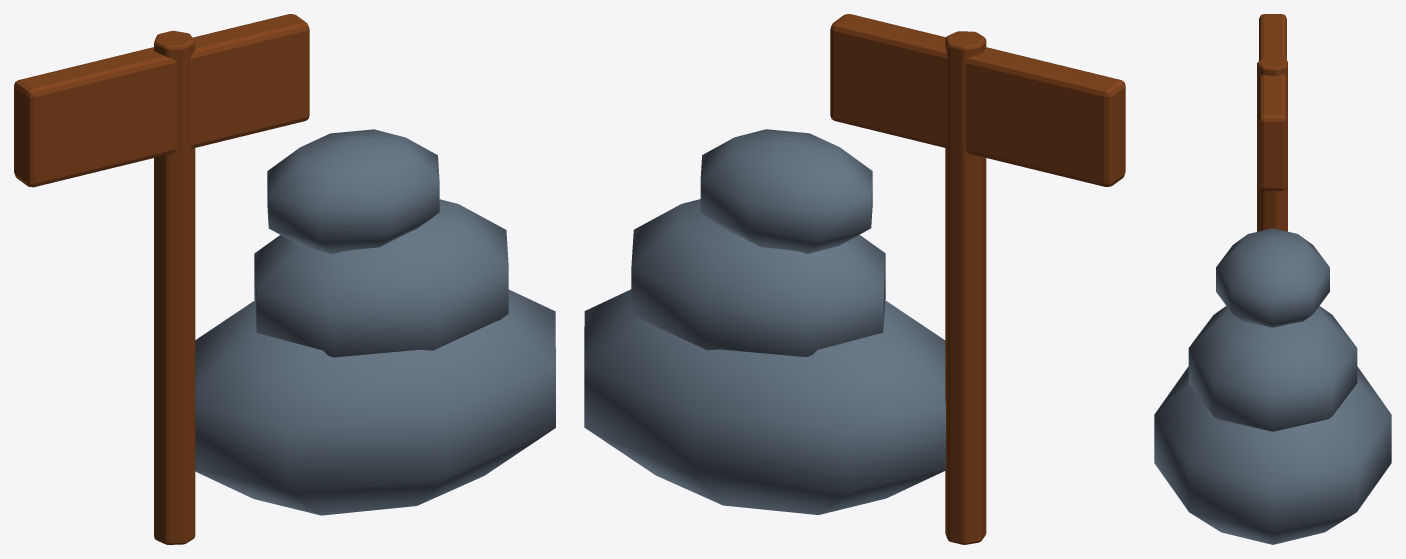
File: ranger_wayfinding_cairn_lod1.obj
3 renders of one model, left to right at view 1: azimuth 30°, elevation 25°; view 2: azimuth 150°, elevation 25°; view 3: azimuth 270°, elevation 25°, orthographic. The views are drawn at different scales.
Parts seen in each view (by area): view 1: ow_cairn_lod1_rock_0_M_stone, ow_cairn_lod1_sign_M_wood, ow_cairn_lod1_rock_1_M_stone, ow_cairn_lod1_post_M_wood, ow_cairn_lod1_rock_2_M_stone; view 2: ow_cairn_lod1_rock_0_M_stone, ow_cairn_lod1_sign_M_wood, ow_cairn_lod1_rock_1_M_stone, ow_cairn_lod1_post_M_wood, ow_cairn_lod1_rock_2_M_stone; view 3: ow_cairn_lod1_rock_0_M_stone, ow_cairn_lod1_rock_1_M_stone, ow_cairn_lod1_rock_2_M_stone, ow_cairn_lod1_sign_M_wood, ow_cairn_lod1_post_M_wood.
Part boxes in pixels (x1,y1,x2,y2): ow_cairn_lod1_rock_0_M_stone: [195, 289, 555, 515]; ow_cairn_lod1_sign_M_wood: [14, 14, 309, 187]; ow_cairn_lod1_rock_1_M_stone: [254, 199, 508, 357]; ow_cairn_lod1_post_M_wood: [154, 30, 195, 544]; ow_cairn_lod1_rock_2_M_stone: [267, 129, 439, 253]; ow_cairn_lod1_rock_0_M_stone: [584, 289, 945, 514]; ow_cairn_lod1_sign_M_wood: [830, 14, 1125, 186]; ow_cairn_lod1_rock_1_M_stone: [631, 199, 885, 357]; ow_cairn_lod1_post_M_wood: [945, 31, 986, 544]; ow_cairn_lod1_rock_2_M_stone: [700, 129, 872, 253]; ow_cairn_lod1_rock_0_M_stone: [1154, 366, 1391, 544]; ow_cairn_lod1_rock_1_M_stone: [1188, 306, 1357, 431]; ow_cairn_lod1_rock_2_M_stone: [1216, 228, 1329, 327]; ow_cairn_lod1_sign_M_wood: [1259, 14, 1286, 190]; ow_cairn_lod1_post_M_wood: [1257, 56, 1287, 231].
Bounding box in the file's own units: 1.7 × 1.52 × 0.8559.
